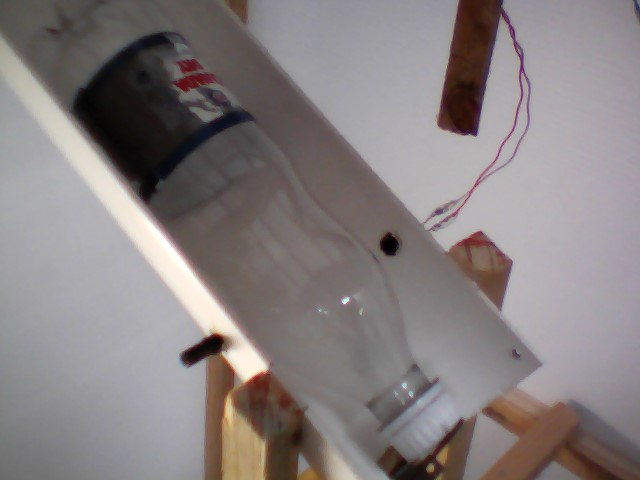plastico: (31, 1, 468, 464)
